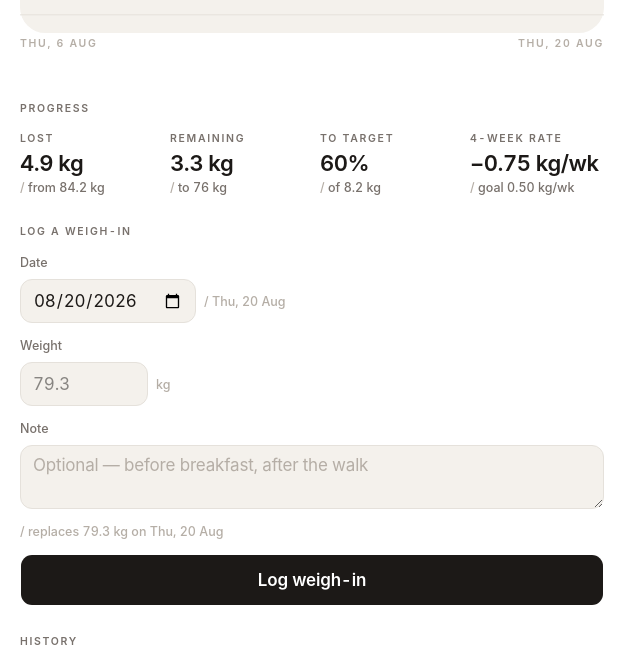
it: logging a weigh-in › refuses a weight the action would refuse, without a round trip
The image size is (625, 661).
(page scrolled)
Step 1. Type "774" into the field labelled "Weight" → (84, 384), box [20, 362, 148, 406]
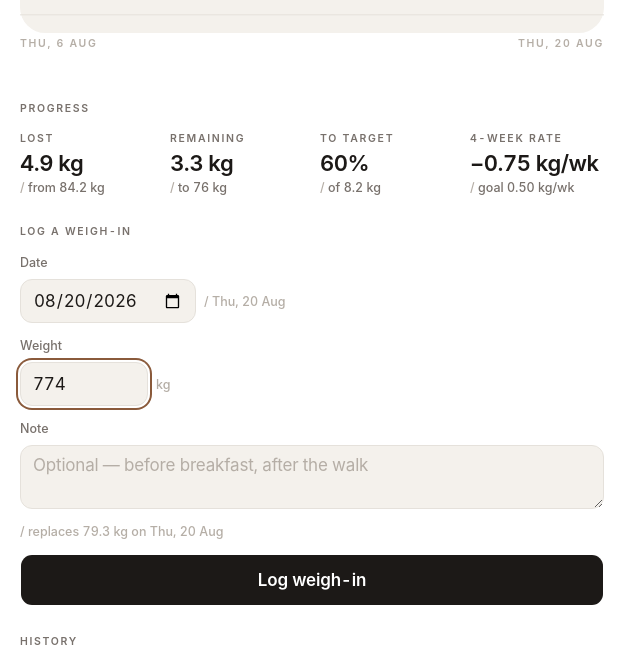
Step 2. Click the button "Log weigh-in" → (312, 580), box [20, 554, 604, 606]
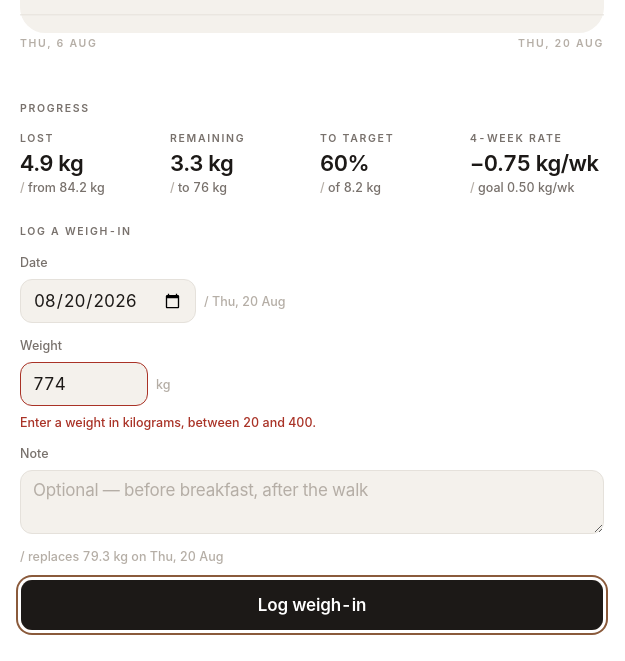
Result: the message shows "between 20 and 400" at [20, 415, 316, 430]
